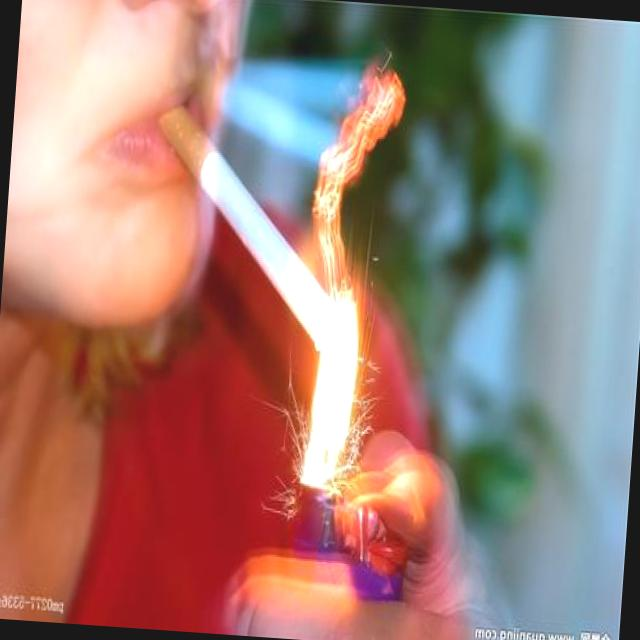cigarette: (143, 95, 376, 344)
